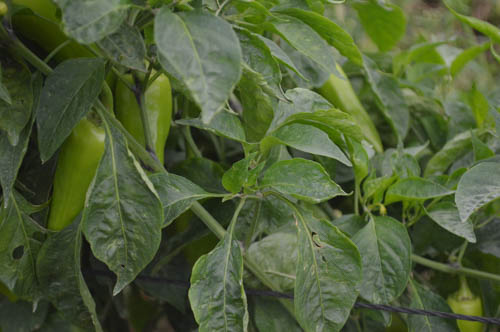ChiliPepper: (46, 116, 105, 234), (318, 70, 385, 159), (118, 69, 175, 168)
